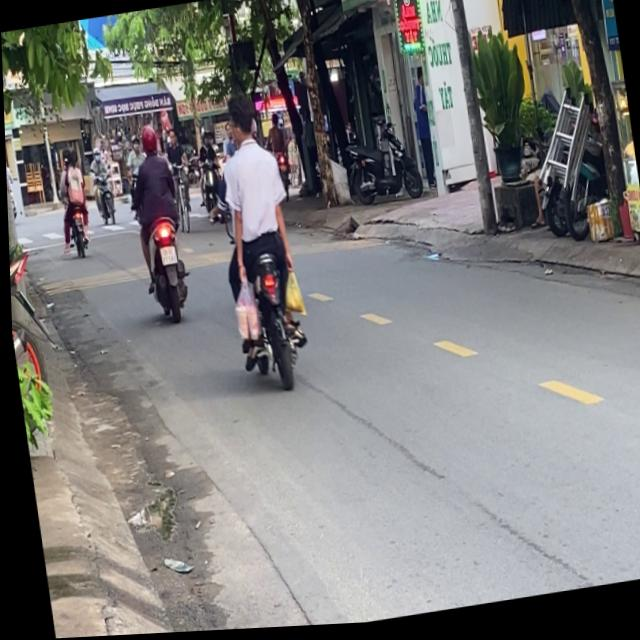helmet: (139, 123, 160, 156)
licenseplate: (199, 86, 317, 398), (120, 120, 195, 326)
motorcyclist: (221, 92, 259, 153)
nohelmet: (158, 245, 175, 266)
